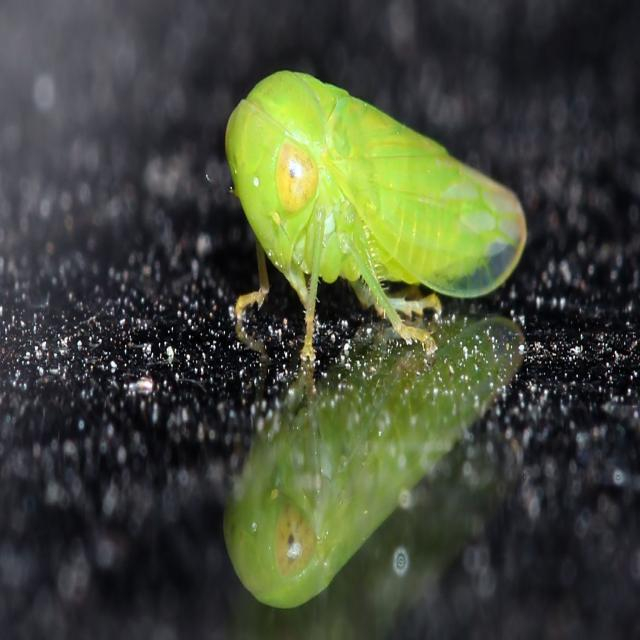wereng pada daun padi: (222, 66, 528, 369)
